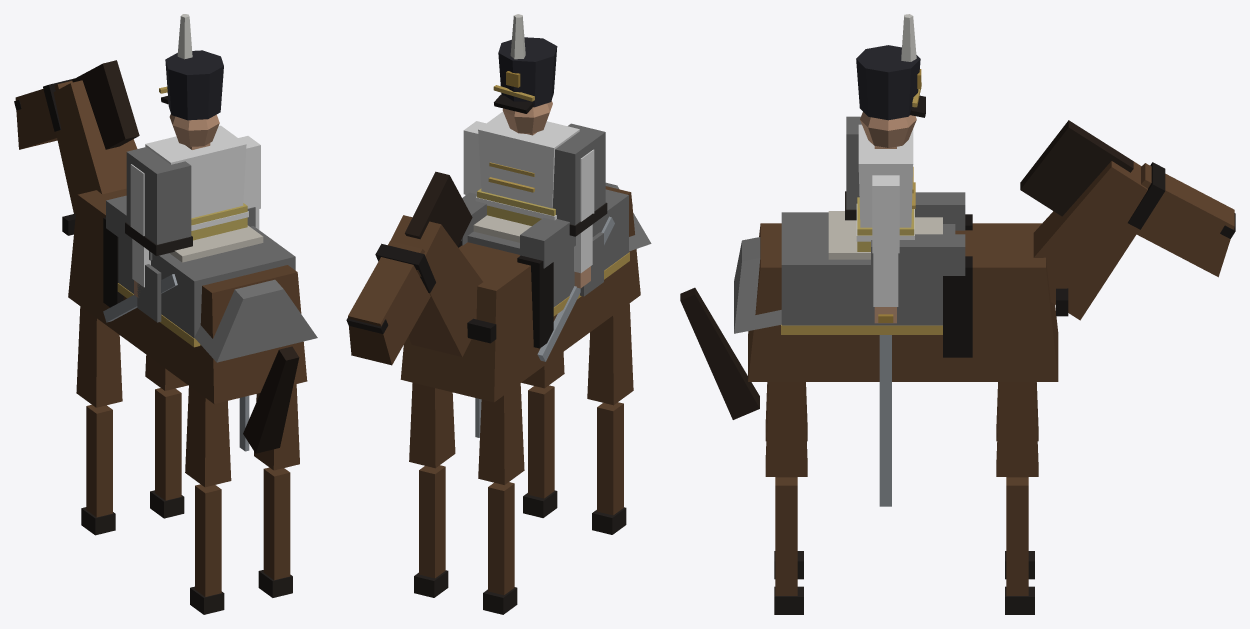
The model's file is cavalry_c19_hussar_lod0.glb.
3 renders of one model, left to right at view 1: azimuth 30°, elevation 25°; view 2: azimuth 150°, elevation 25°; view 3: azimuth 270°, elevation 25°, orthographic. The views are drawn at different scales.
Visible parts, largest first — view 1: c19_hussar_lod0_static; view 2: c19_hussar_lod0_static; view 3: c19_hussar_lod0_static.
Boxes of the visible parts, x1,y1,x2,y2 form: c19_hussar_lod0_static: [14, 14, 317, 614]; c19_hussar_lod0_static: [346, 14, 651, 614]; c19_hussar_lod0_static: [680, 14, 1235, 614].
Bounding box in the file's own units: 0.59 × 2.56 × 2.24.
